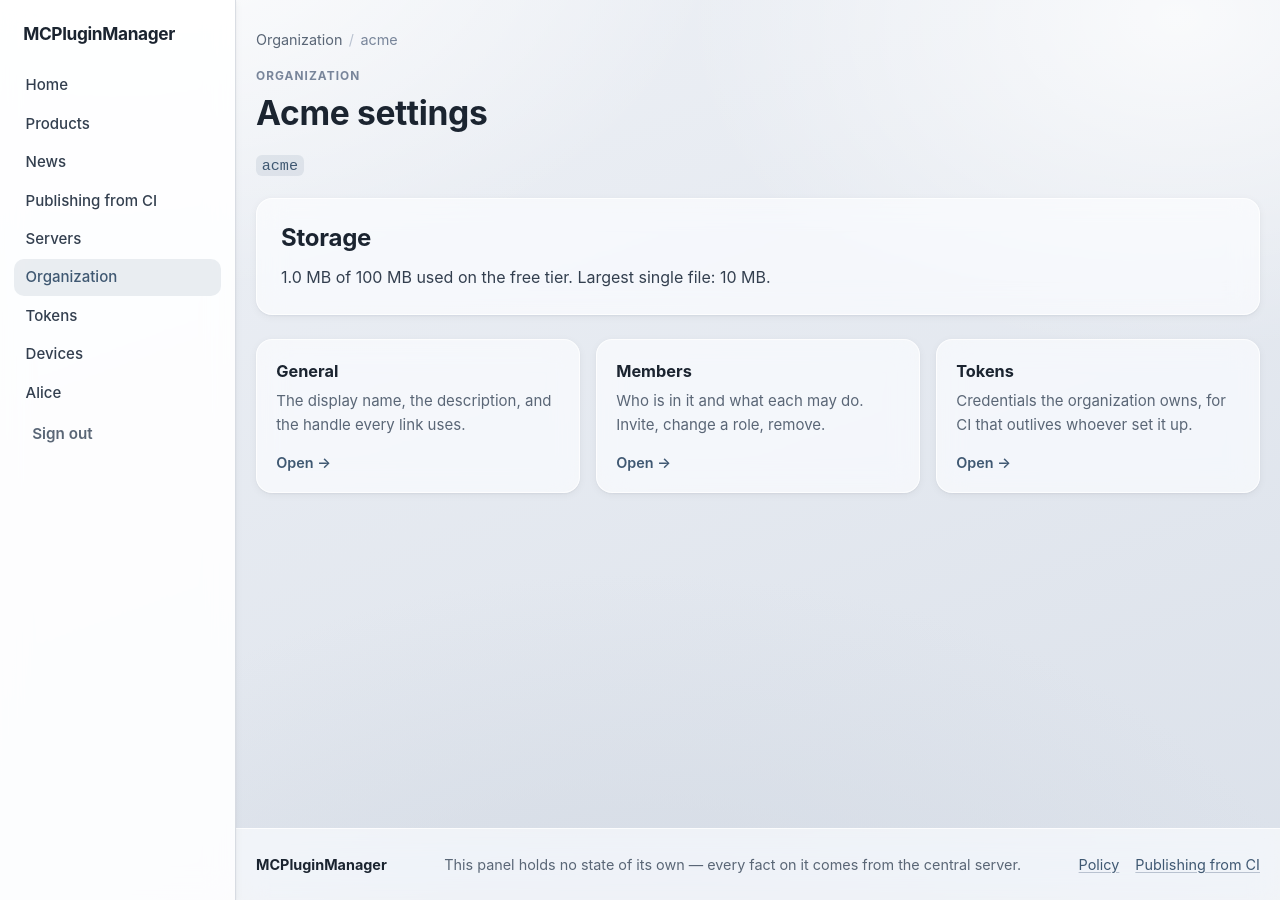
Test: the settings landing › opens each subject at its own address
The width and height of the screenshot is (1280, 900).
Click the link "Members" at point(758, 416), box [596,339,920,493]
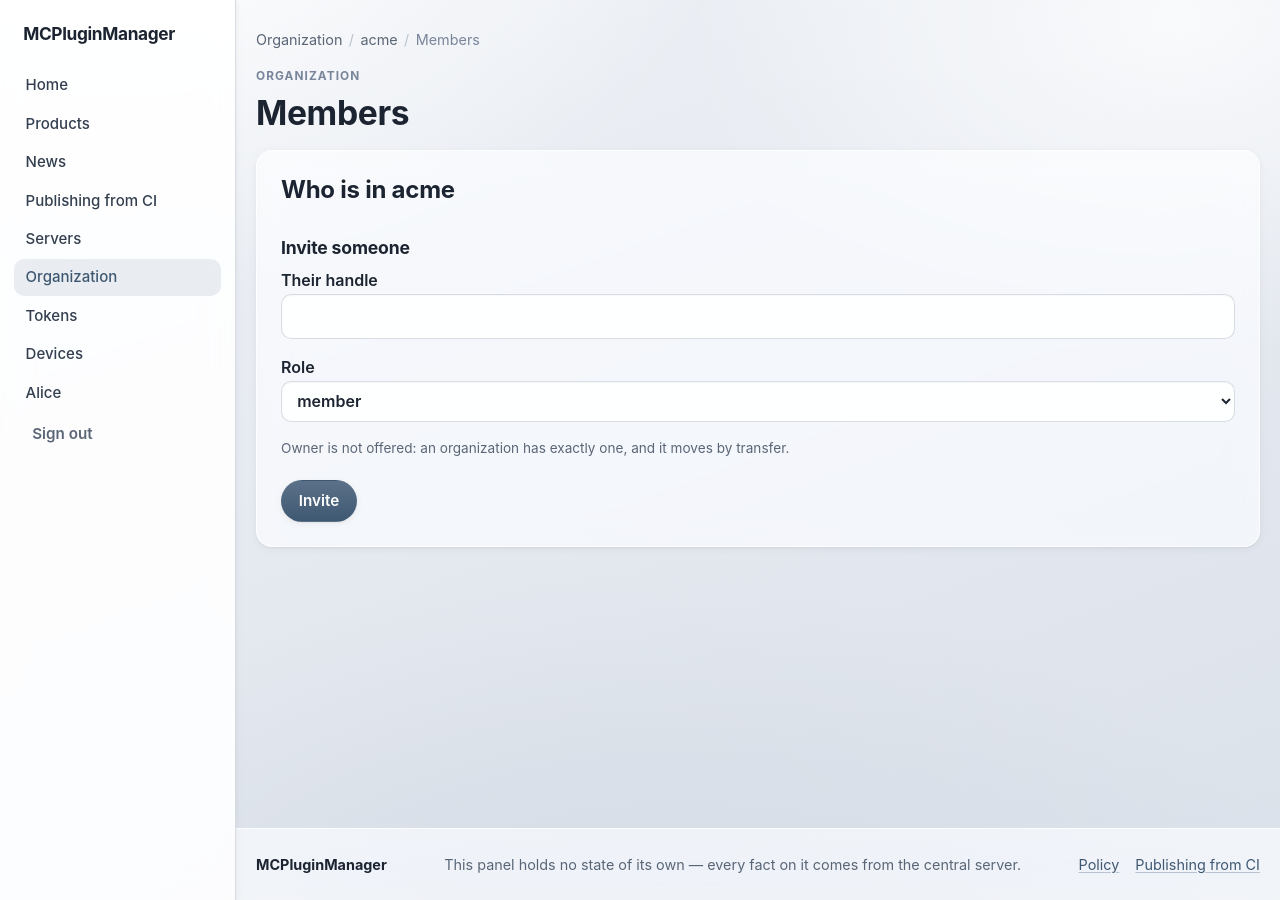
Check: the heading "Members" is shown, box [256,92,409,133]
